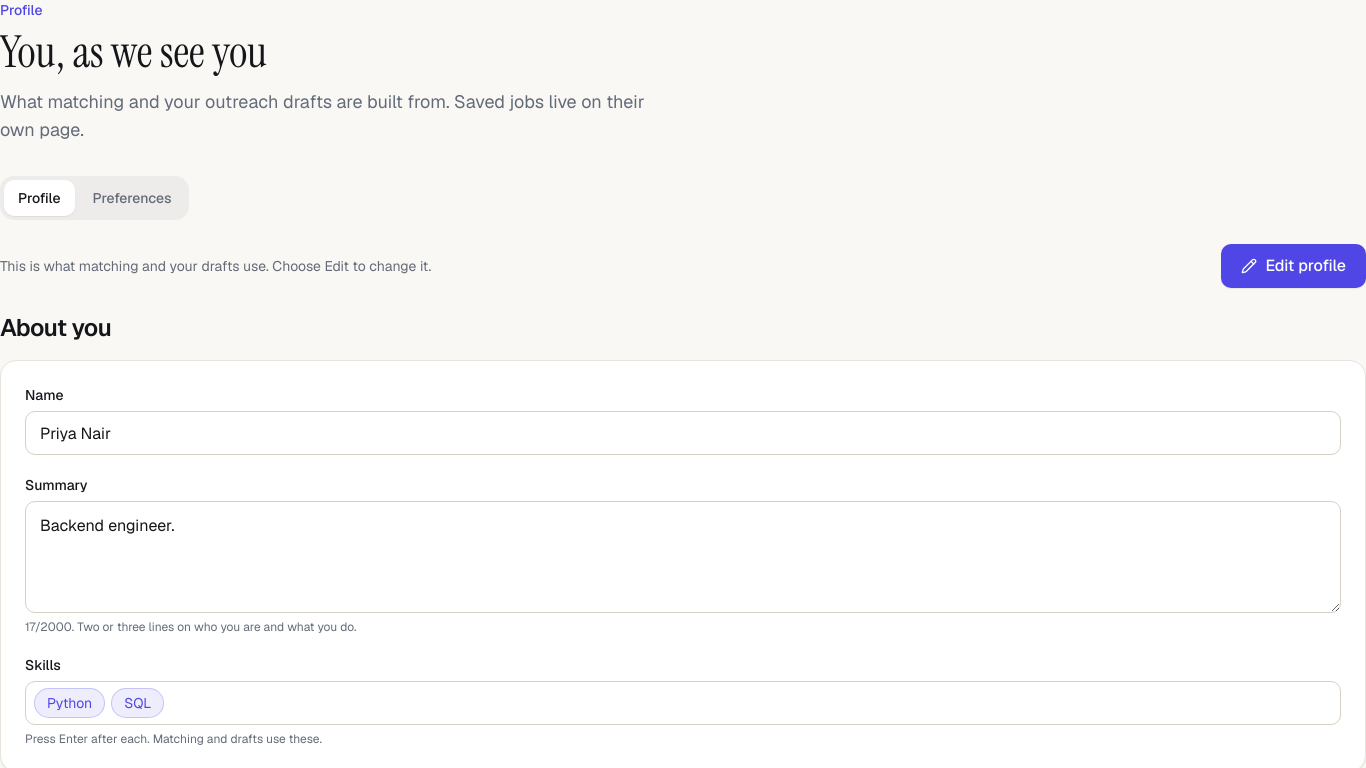
Test case: Preferences: how roles are read, and companies to watch › explains what each wanted role means to the matcher
Expected: the field labelled "Name" is shown, x1=25 y1=411 x2=1341 y2=455
Click the tab "Preferences" at (132, 198), box x1=78 y1=180 x2=186 y2=216
(page scrolled)
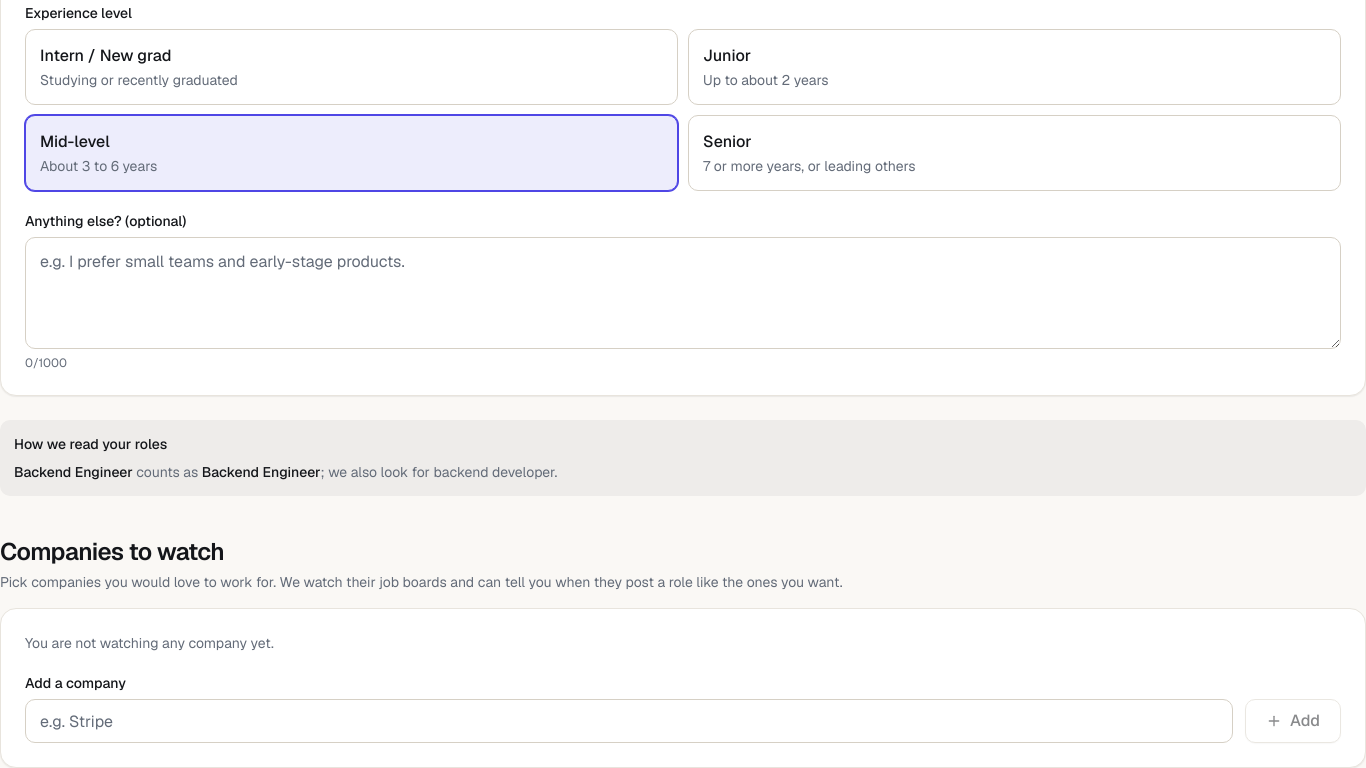
Expected: the list item "counts as" shows "Backend Engineer counts as Backend Engineer", x1=14 y1=463 x2=557 y2=481
